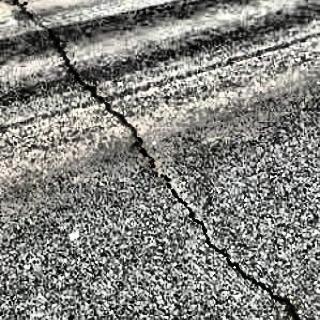crack: (7, 3, 302, 319)
